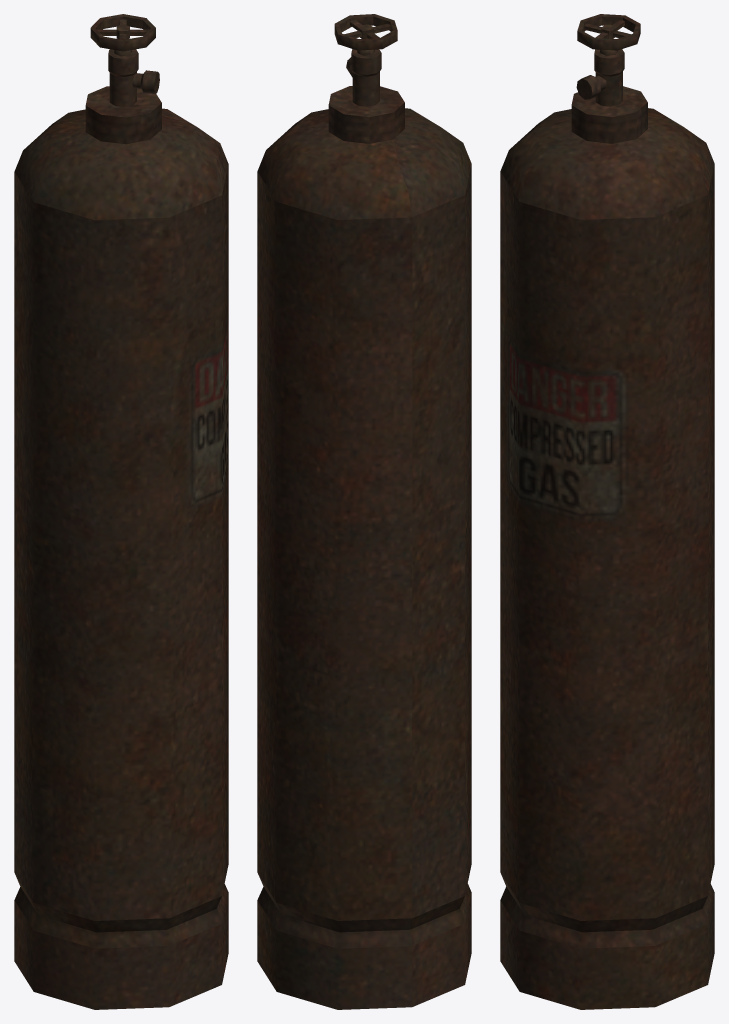
Rendered from gas_cylinder_mx_1.dae.
3 renders of one model, left to right at view 1: azimuth 30°, elevation 25°; view 2: azimuth 150°, elevation 25°; view 3: azimuth 270°, elevation 25°, orthographic.
Parts seen in each view (by area): view 1: gas_cylinder_mx_1; view 2: gas_cylinder_mx_1; view 3: gas_cylinder_mx_1.
Part boxes in pixels (bbox=[...]): gas_cylinder_mx_1: bbox=[14, 14, 228, 1009]; gas_cylinder_mx_1: bbox=[257, 14, 471, 1009]; gas_cylinder_mx_1: bbox=[500, 14, 714, 1009].
Bounding box in the file's own units: 0.3278 × 0.3278 × 1.58.
1 material, 1 textured.
